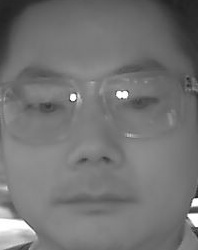eye: (23, 98, 62, 117), (126, 95, 159, 114)
glass: (101, 68, 183, 139), (3, 71, 80, 144)
mouth: (53, 185, 127, 224)
